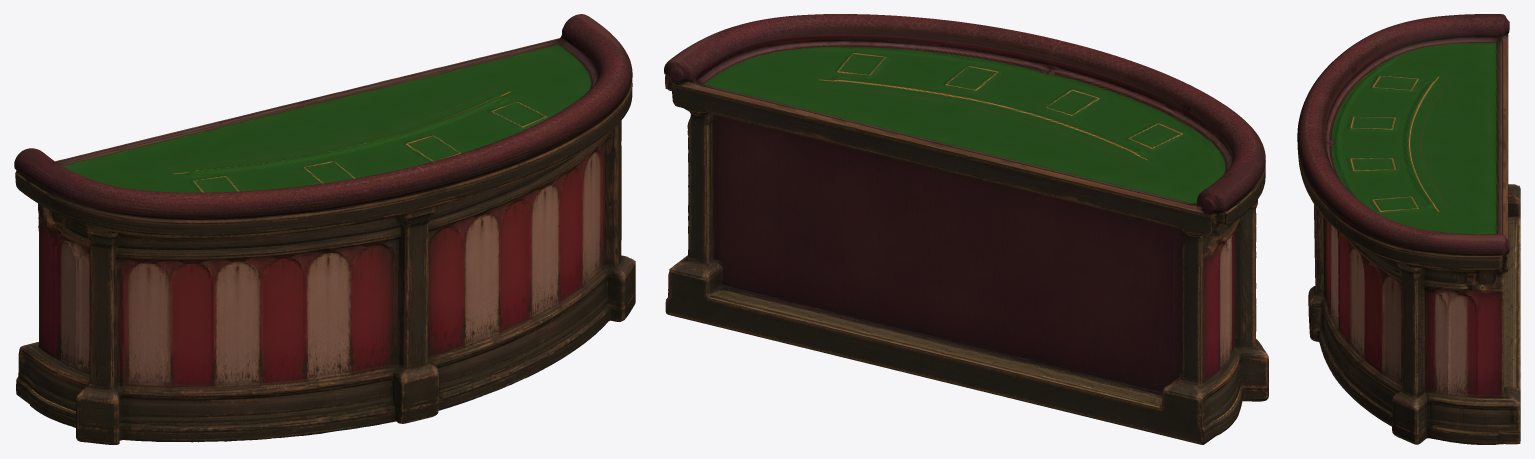
File: Meshy_AI_Curved_Poker_Table_0623181316_texture.fbx
The picture shows the model from 3 angles, left to right: view 1: azimuth 30°, elevation 25°; view 2: azimuth 150°, elevation 25°; view 3: azimuth 270°, elevation 25°; orthographic projection. The views are drawn at different scales.
Parts seen in each view (by area): view 1: temp; view 2: temp; view 3: temp.
Part boxes in pixels (x1,y1,x2,y2): temp: [14, 14, 635, 444]; temp: [664, 14, 1268, 444]; temp: [1297, 14, 1520, 444].
Size of the model in its own units: 191 by 80.16 by 77.68.
1 material, 1 textured.
